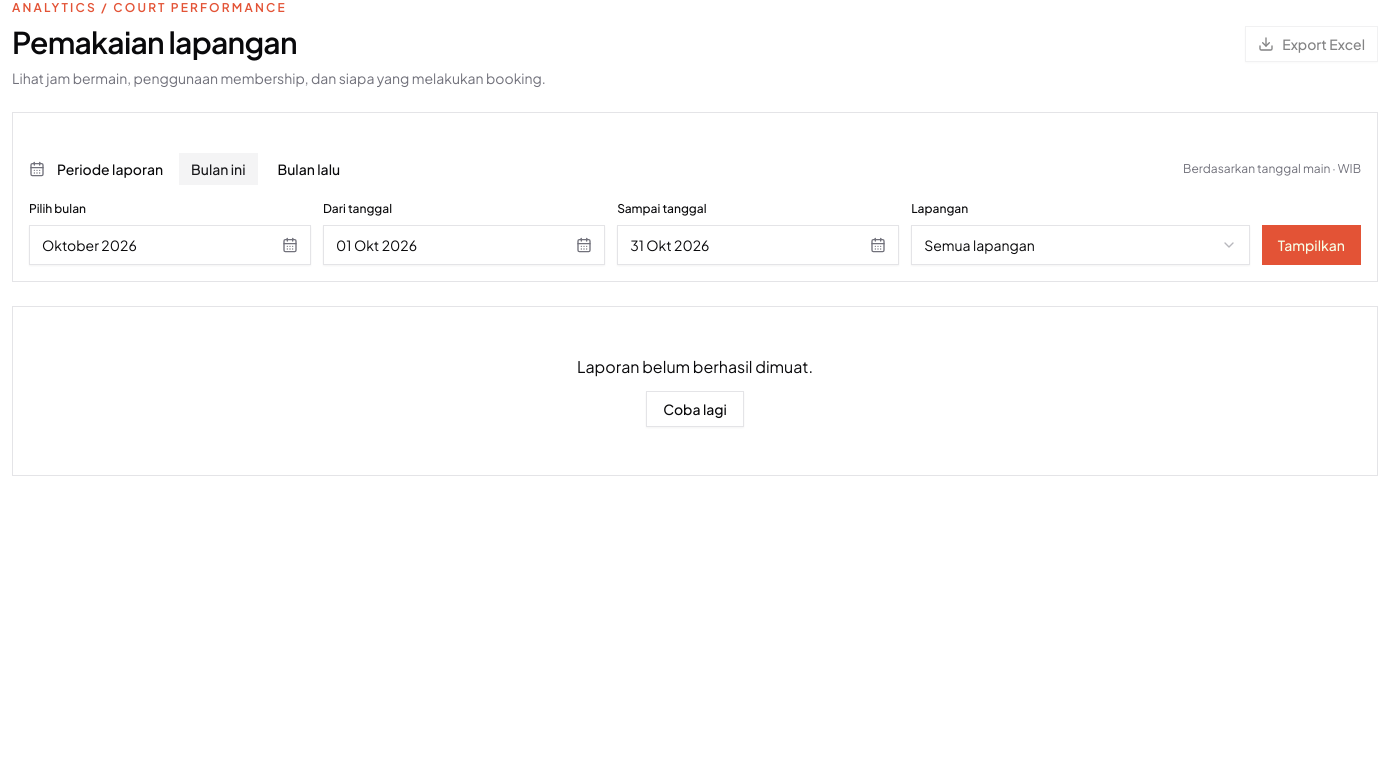
Test case: Court Performance UI › shows retry rather than a zero-usage report on API failure
The width and height of the screenshot is (1390, 768).
Expected: the message shows "belum berhasil", [577,356,813,377]
Expected: the text "Total seluruh kategori" is not shown
Click the button "Coba lagi" at (695, 409), box [646,391,744,427]
(page scrolled)
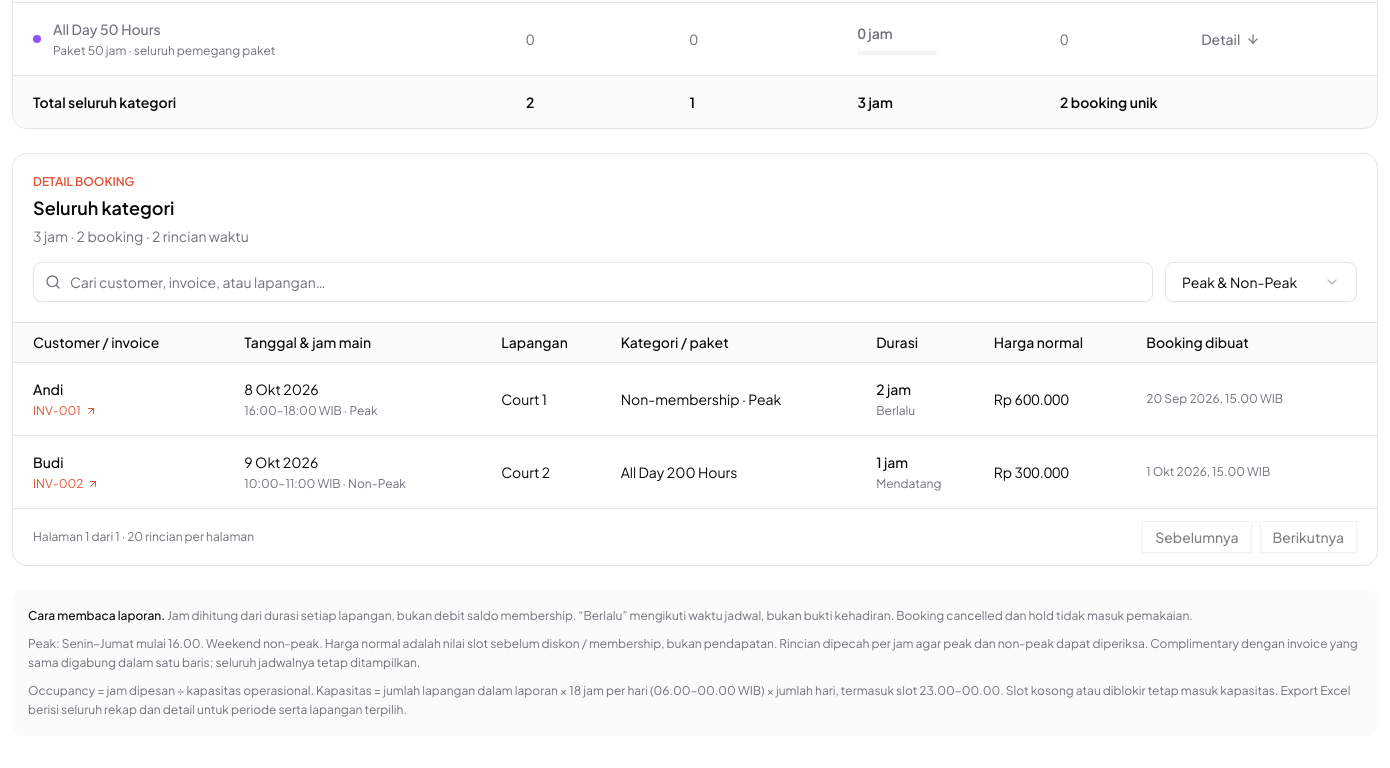
Expected: the text "Andi" is shown, [33,380,63,398]
